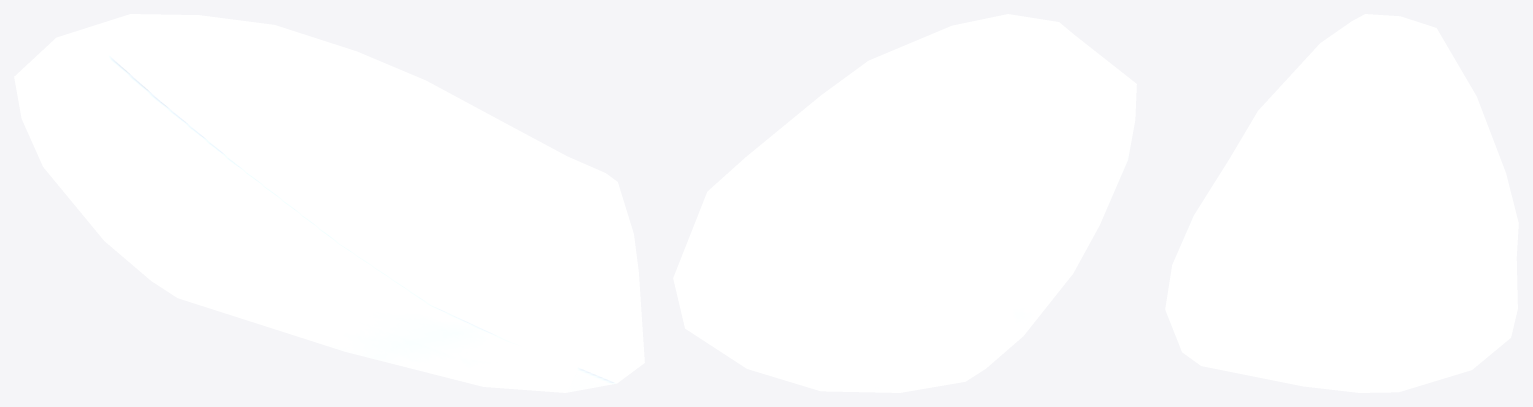
Rendered from LowPolyRock_4.FBX.
3 renders of one model, left to right at view 1: azimuth 30°, elevation 25°; view 2: azimuth 150°, elevation 25°; view 3: azimuth 270°, elevation 25°, orthographic. The views are drawn at different scales.
Visible parts, largest first — view 1: Rock_4; view 2: Rock_4; view 3: Rock_4.
Part boxes in pixels (x1,y1,x2,y2): Rock_4: [14, 14, 644, 392]; Rock_4: [673, 14, 1136, 392]; Rock_4: [1165, 14, 1518, 392].
Size of the model in its own units: 9.9 by 6.16 by 8.42.
Materials: 1 (1 with a texture image).
